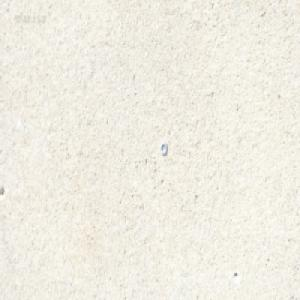Washer: (158, 144, 166, 159)
